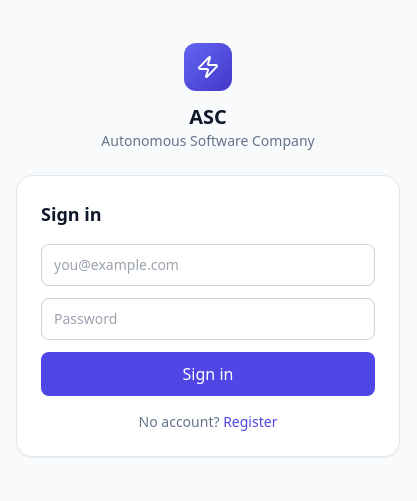
Test: LoginForm › shows an error message when auth fails
Type "u@e.com" into the field with placeholder "you@example.com".
click(208, 265); type("u@e.com")  # box [41,244,375,286]
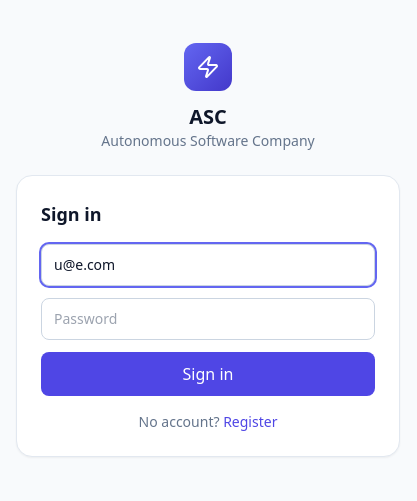
Type "wrong" into the password field with placeholder "Password".
click(208, 319); type("wrong")  # box [41,298,375,340]
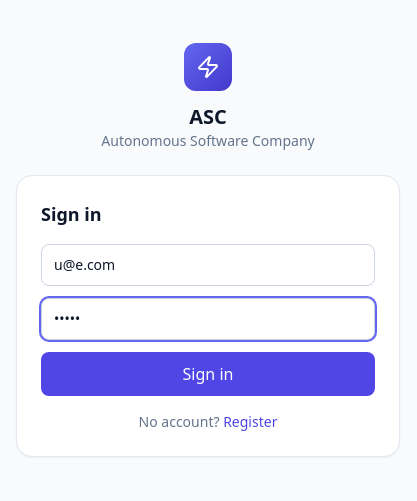
Click the button "Sign in".
click(208, 374)  # box [41,352,375,396]
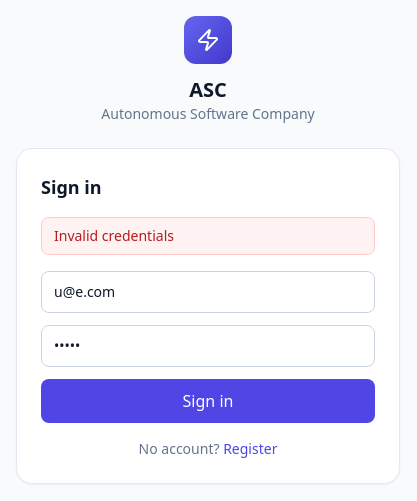
Now the text "Invalid credentials" is shown, box [41,217,375,255]
